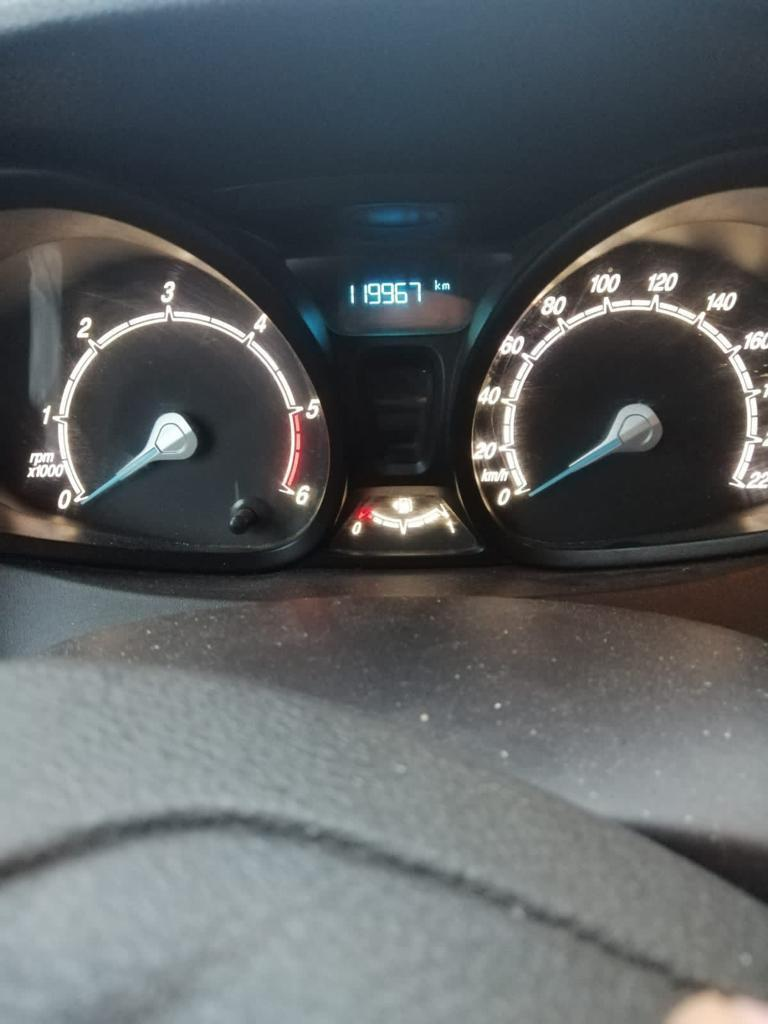1: (349, 281, 357, 308), (361, 280, 367, 307)
6: (394, 280, 408, 306)
7: (408, 279, 422, 303)
9: (381, 280, 394, 305), (368, 281, 380, 305)
X: (441, 281, 451, 291), (434, 277, 440, 291)
odometer: (335, 268, 460, 322)
